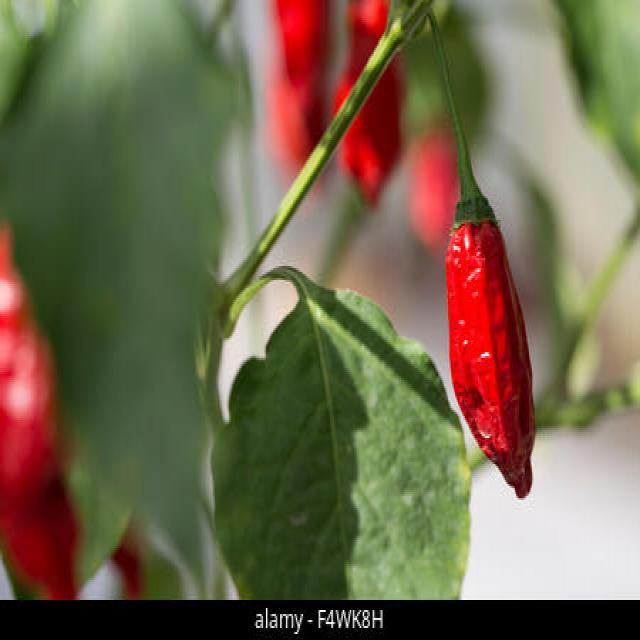red chili: (443, 195, 549, 516)
